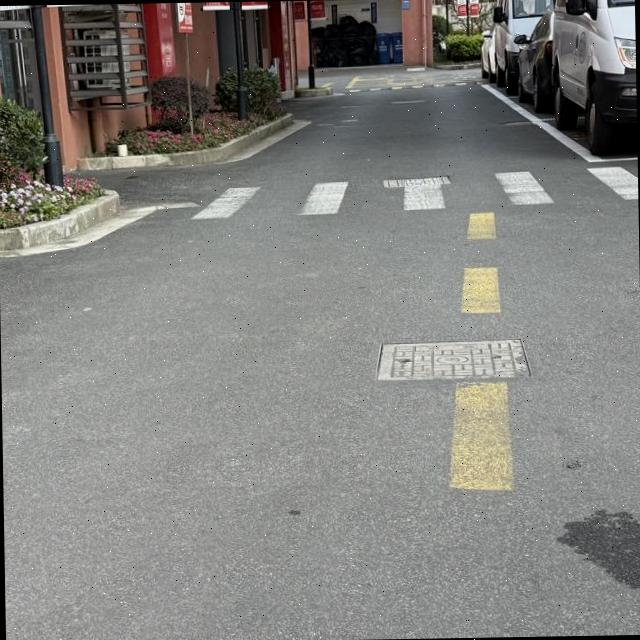curb: (82, 114, 293, 172), (0, 189, 118, 250), (435, 60, 481, 69), (295, 86, 332, 96)
